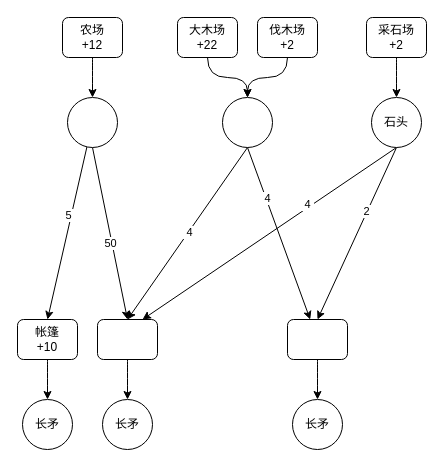
The diagram is 444 pixels wide and 467 high, and some of its shapes have lost their labels. Here are the shapes that lost their labels. From the top down, the centre of each, then its label:
At point (92, 122): "食物".
At point (247, 122): "木头".
At point (127, 339): "泥瓦房 +135".
At point (317, 339): "长矛工坊 +1".
